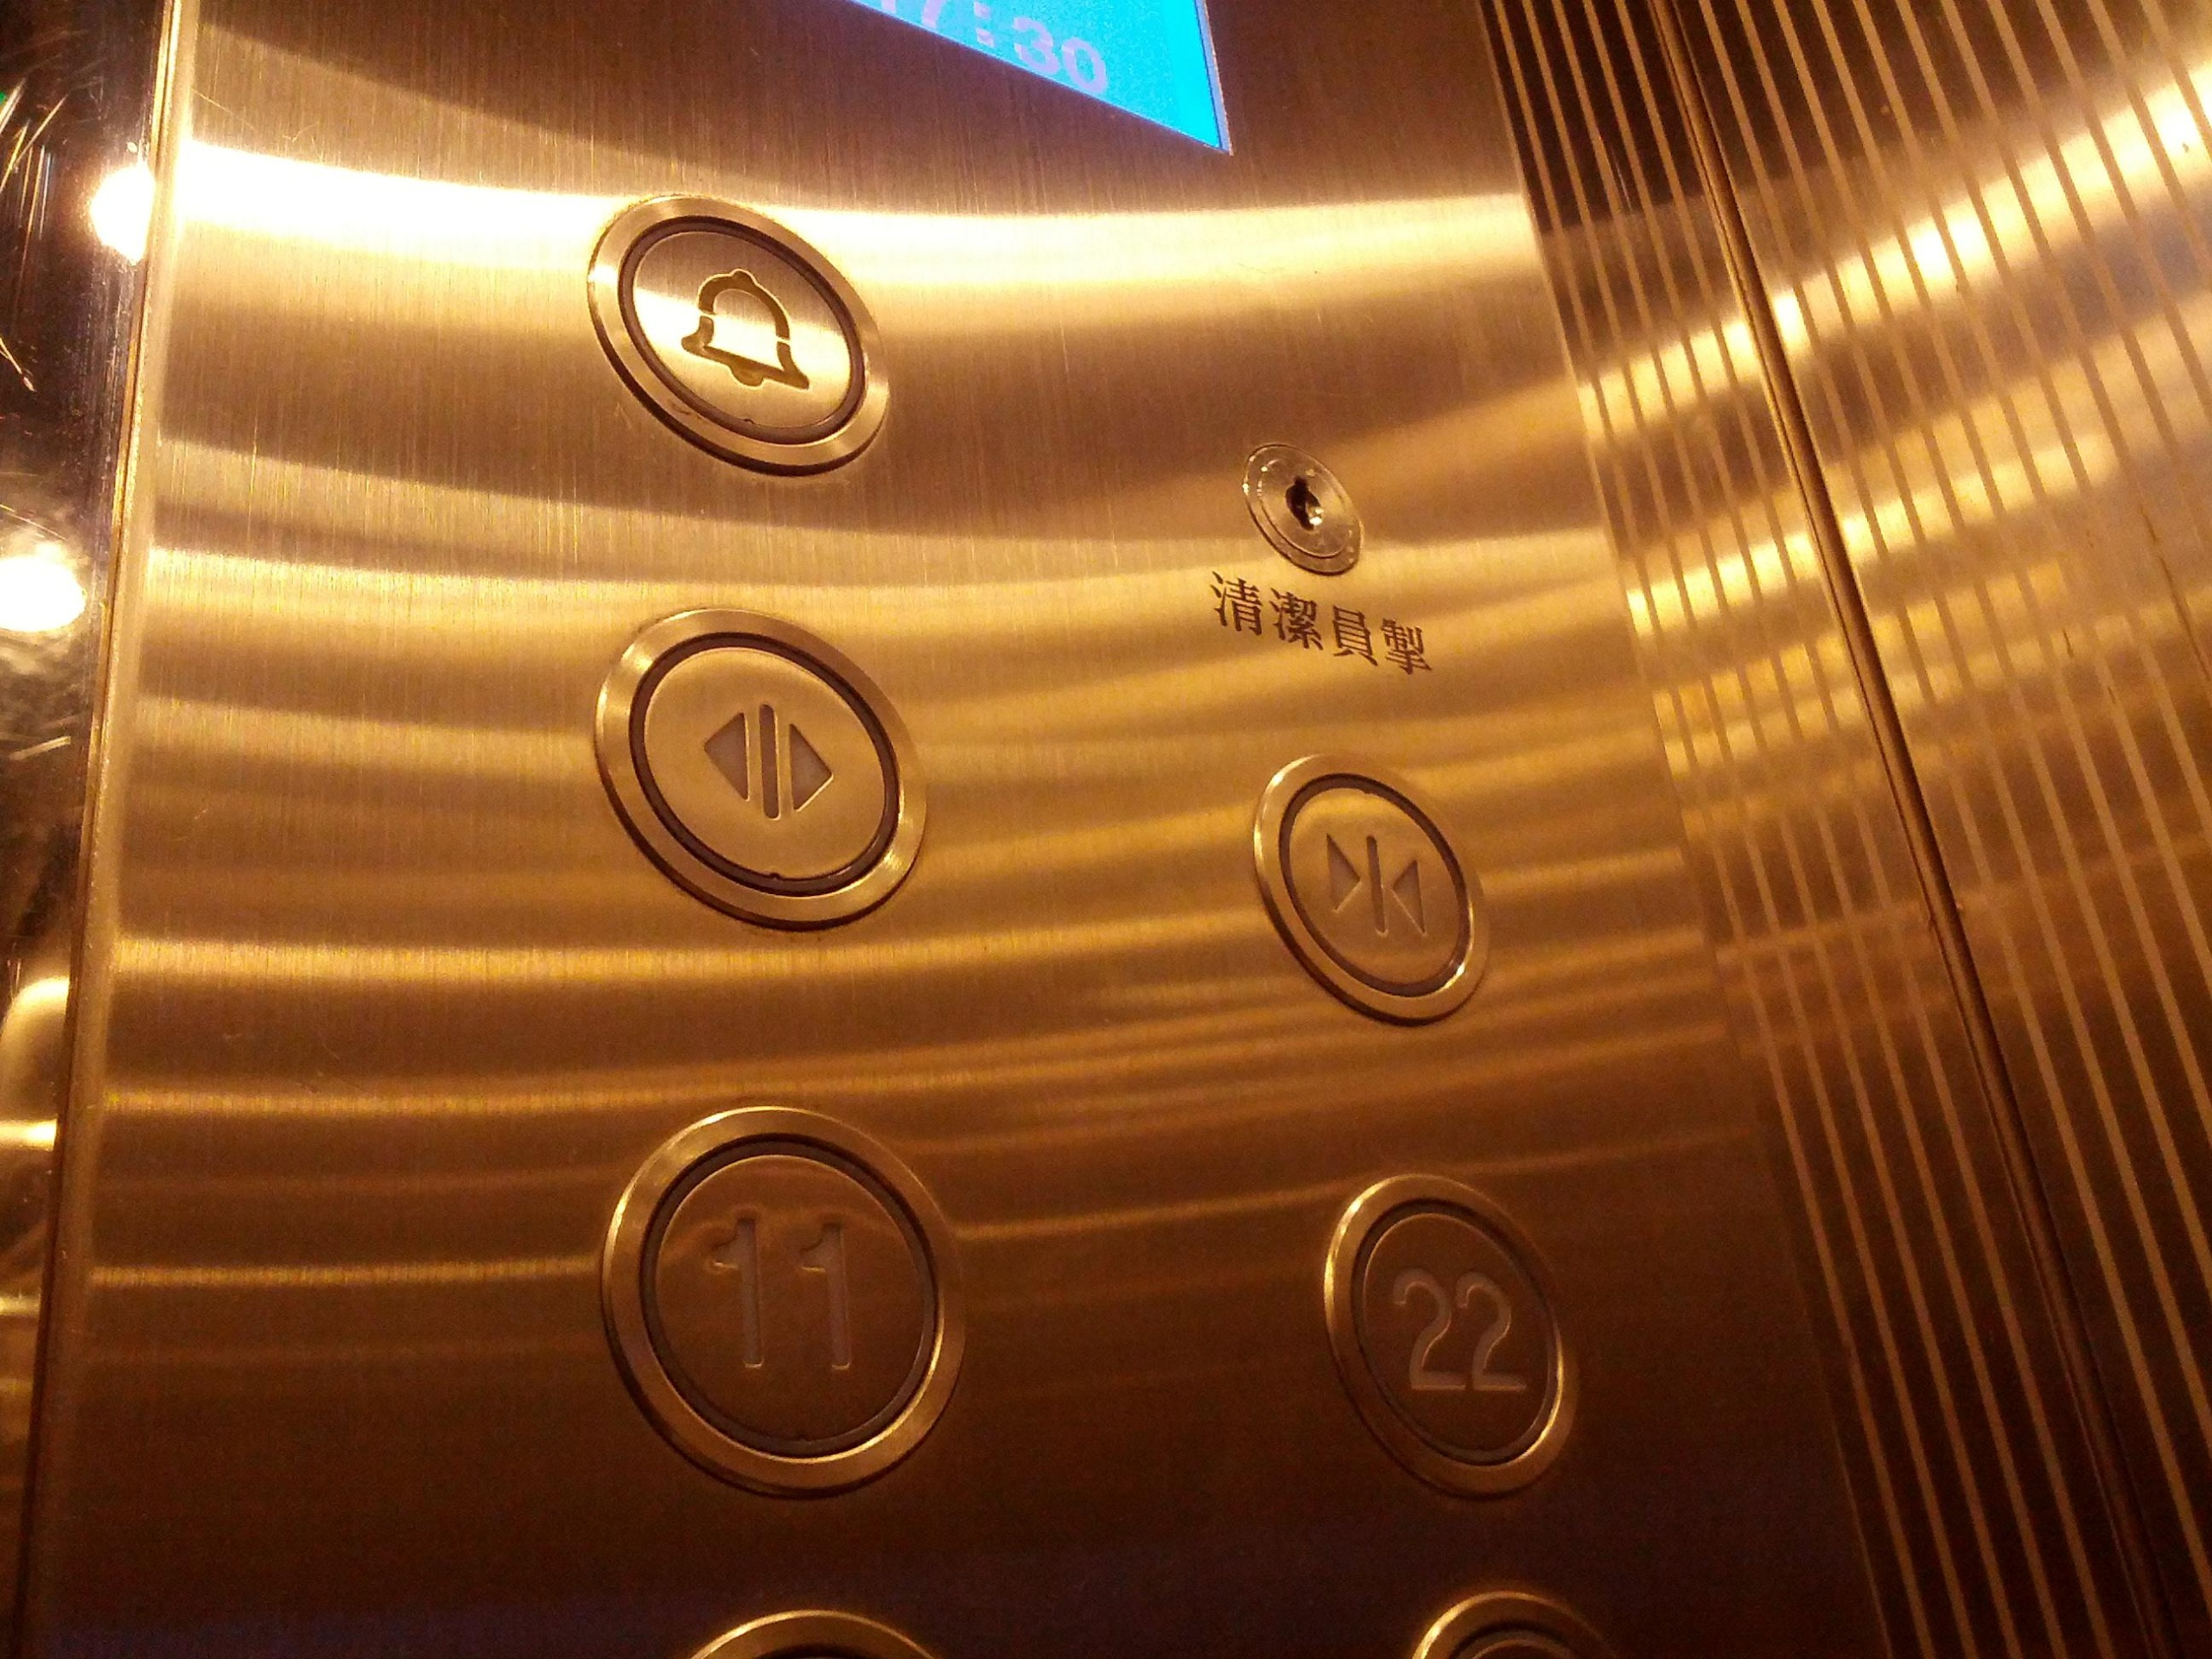11: (594, 1101, 967, 1490)
22: (1320, 1173, 1578, 1497)
alarm: (594, 190, 904, 469)
close: (1247, 737, 1493, 1026)
keyhole: (1223, 429, 1379, 579)
open: (592, 601, 932, 929)
